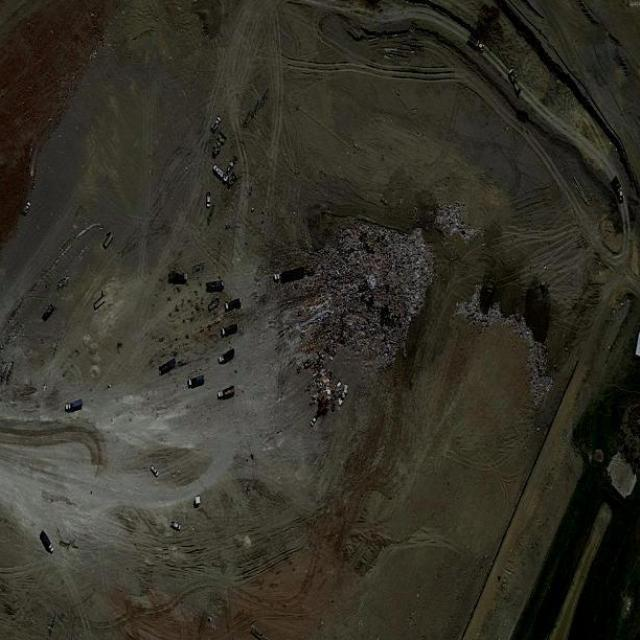dump_site: (279, 203, 446, 419), (429, 194, 486, 256)
